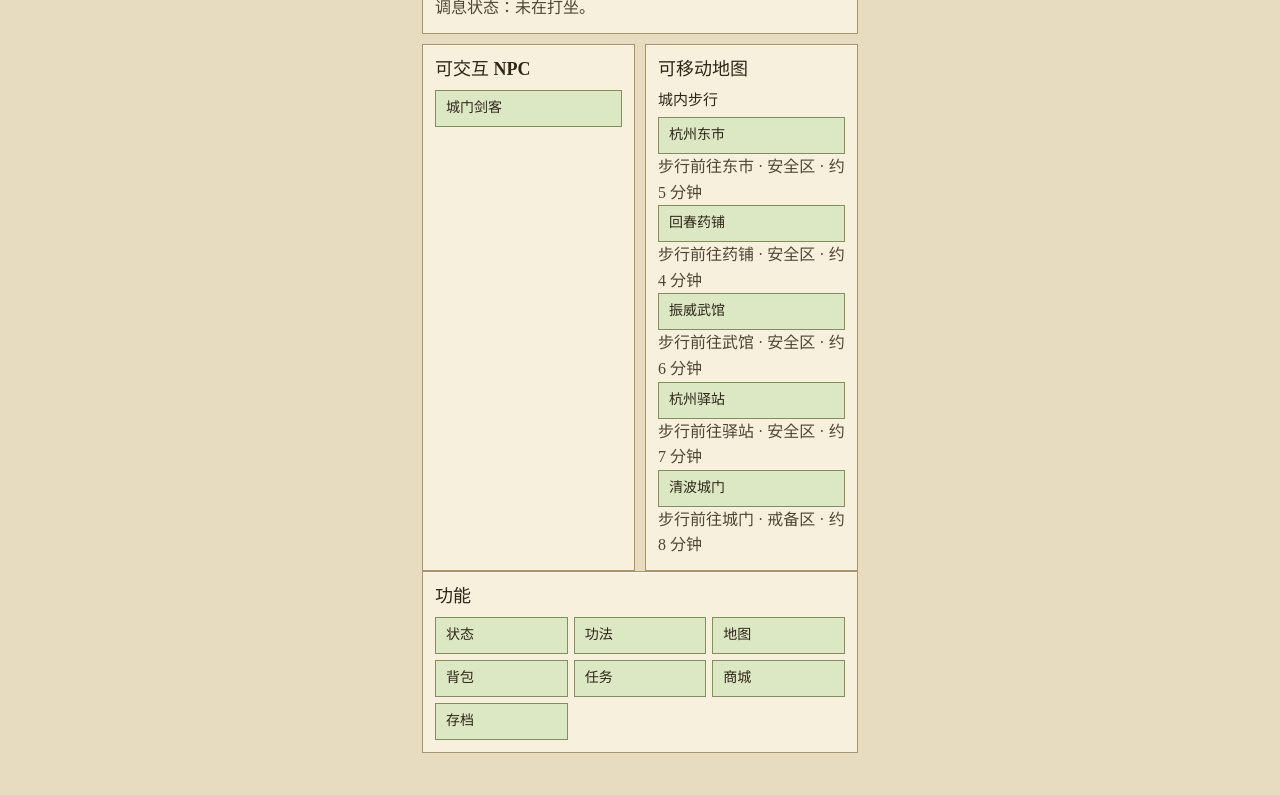
Test: MapPanel › opens the area map subpage from the scene menu
The width and height of the screenshot is (1280, 795).
(page scrolled)
Click the button "地图". click: (779, 636)
box: top-left (712, 617), bottom-right (845, 654)
(page scrolled)
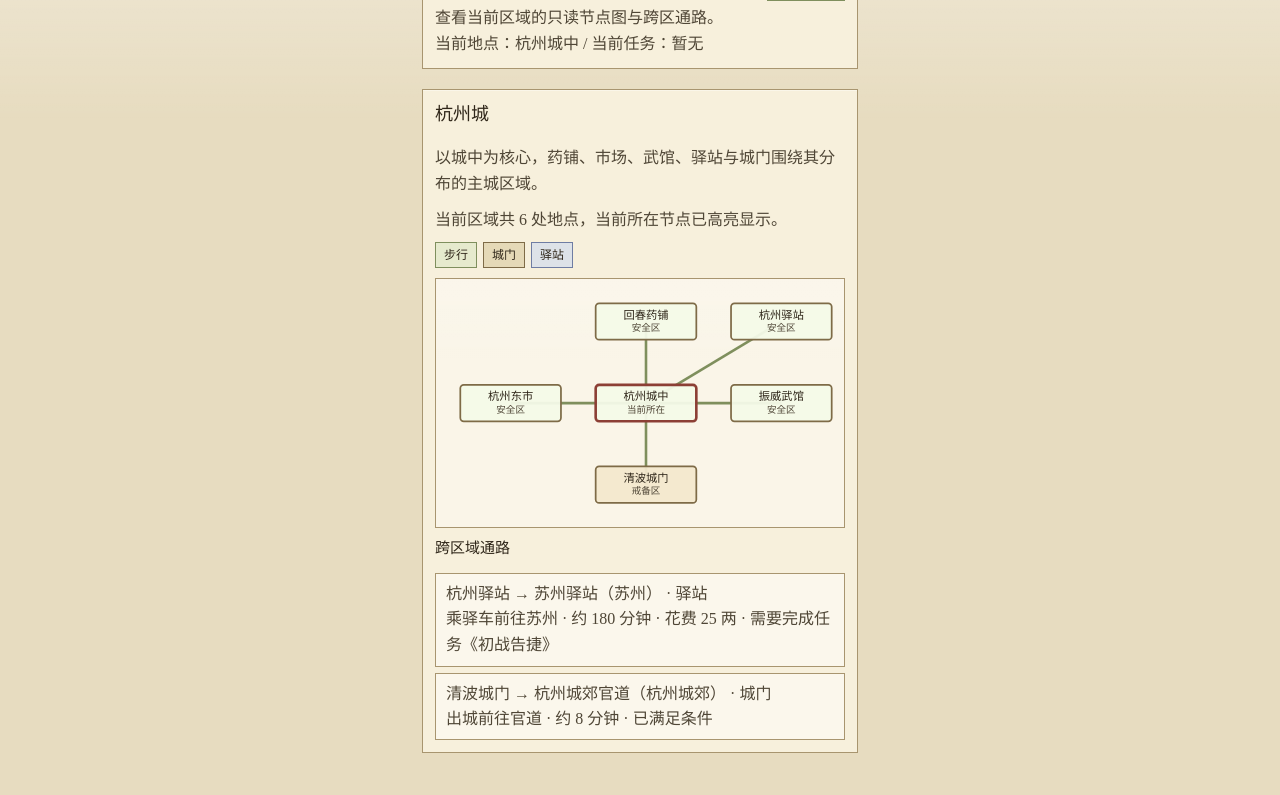
expect the picture named "杭州城区域地图" is shown: met, box top-left (436, 279), bottom-right (845, 527)
expect the text "当前区域共 6 处地点，当前所在节点已高亮显示。" is shown: met, box top-left (435, 207), bottom-right (845, 232)
